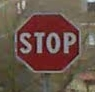stop: (12, 10, 82, 74)
